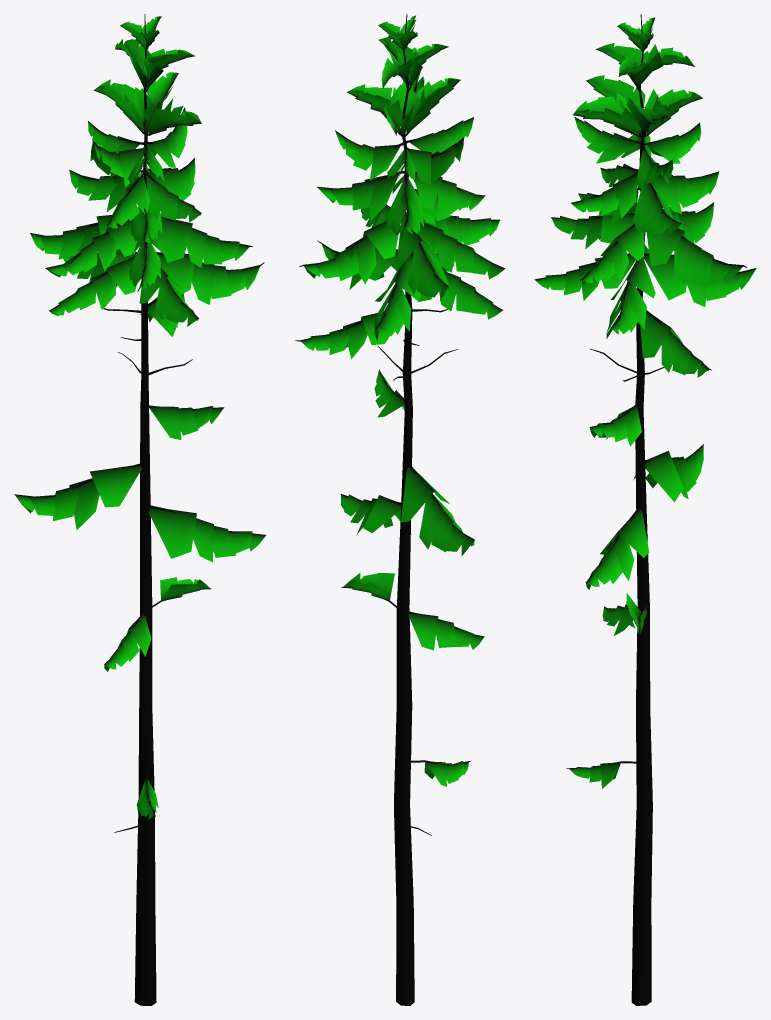
Rendered from IL3DN_Tree_Pine_03_OneMesh.FBX.
3 views of the same model, side by side, from view 1: azimuth 30°, elevation 25°; view 2: azimuth 150°, elevation 25°; view 3: azimuth 270°, elevation 25° (orthographic).
Visible parts, largest first — view 1: IL3DN_Tree_Pine_03_LOD0; view 2: IL3DN_Tree_Pine_03_LOD0; view 3: IL3DN_Tree_Pine_03_LOD0.
Boxes of the visible parts, x1,y1,x2,y2 form: IL3DN_Tree_Pine_03_LOD0: (14,14,266,1005); IL3DN_Tree_Pine_03_LOD0: (295,14,505,1005); IL3DN_Tree_Pine_03_LOD0: (534,14,756,1005).
Size of what is drawn, in the model's own units: 373 by 395 by 1827.
